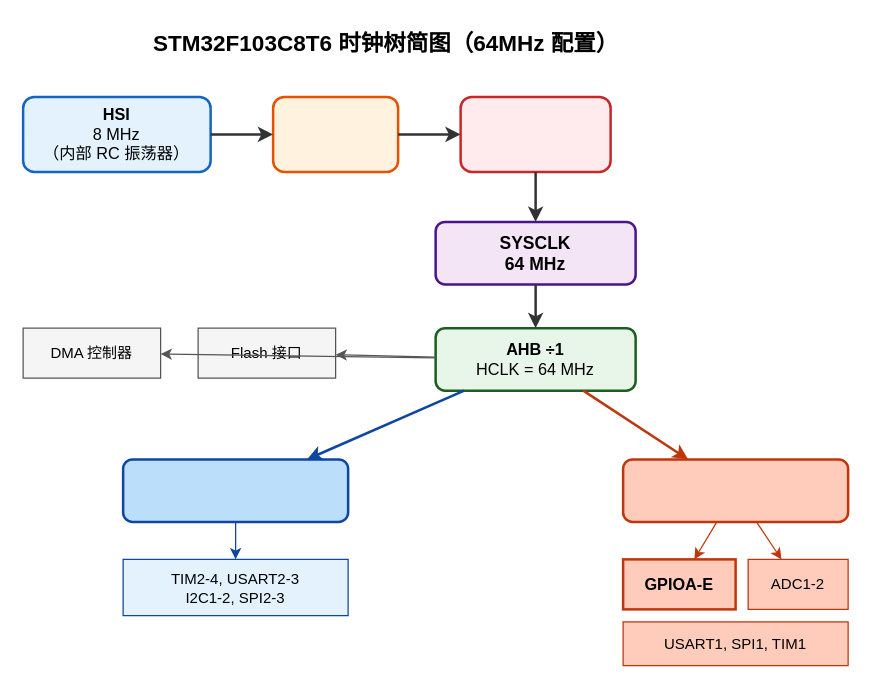
This 870x688 diagram has some shape labels left out. Each missing label, with the box of its shape:
APB1 ÷2 PCLK1 = 32 MHz: (121, 458, 349, 522)
APB2 ÷1 PCLK2 = 64 MHz: (621, 458, 849, 522)
PLL ×16 倍频 64 MHz: (459, 95, 611, 172)
÷2 分频 4 MHz: (271, 95, 399, 172)
